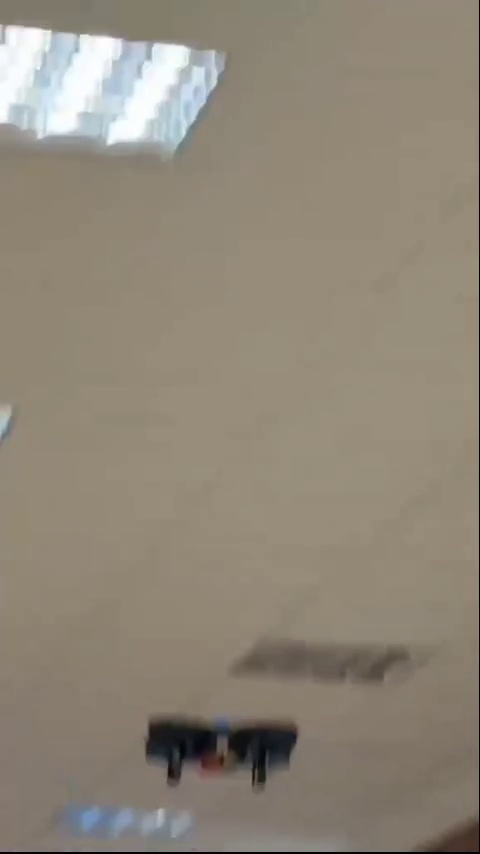drone: (146, 716, 298, 790)
